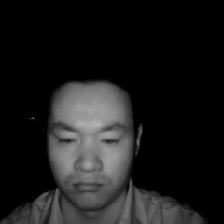sad: (44, 65, 148, 215)
